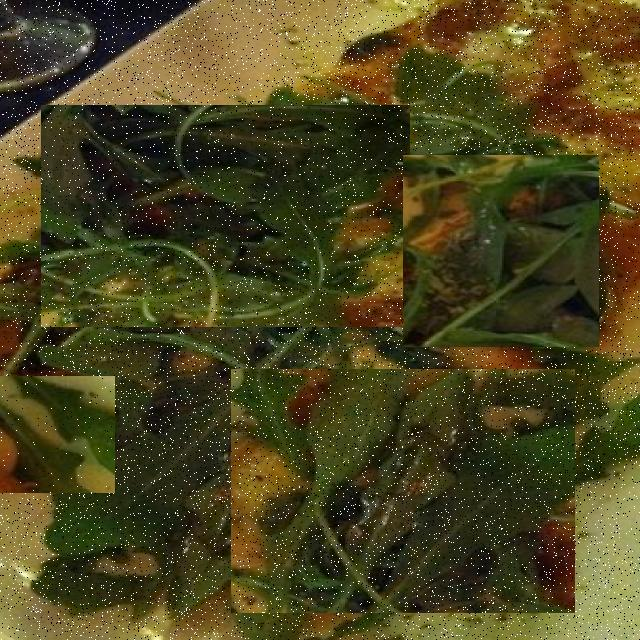Pizza: (0, 0, 640, 640)
Rucola: (231, 369, 575, 613), (41, 105, 410, 327), (403, 155, 599, 347), (0, 376, 115, 493)
